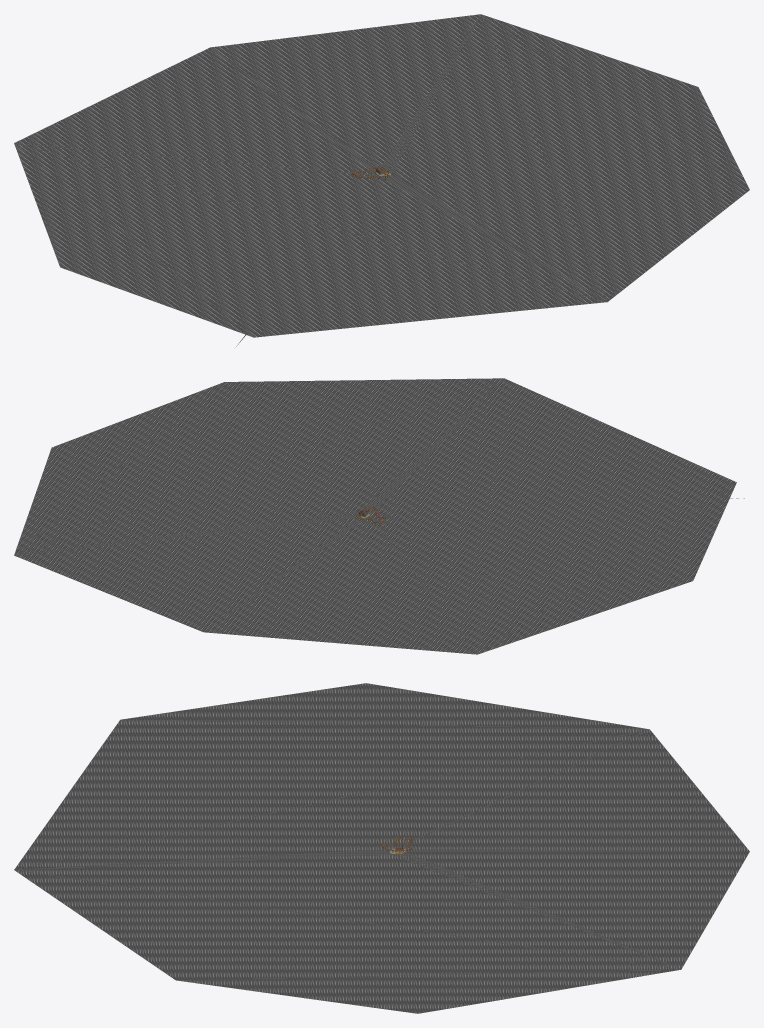
The picture shows the model from 3 angles, top to bottom: view 1: azimuth 30°, elevation 25°; view 2: azimuth 150°, elevation 25°; view 3: azimuth 270°, elevation 25°; orthographic projection. The views are drawn at different scales.
Parts seen in each view (by area): view 1: course-SKP--Water1.001; view 2: course-SKP--Water1.001; view 3: course-SKP--Water1.001.
Boxes of the visible parts, x1,y1,x2,y2 form: course-SKP--Water1.001: (14,14,749,346); course-SKP--Water1.001: (14,378,744,654); course-SKP--Water1.001: (14,683,749,1013).
Bounding box in the file's own units: 144407 × 3404 × 135797.
Materials: 18 (18 with a texture image).
